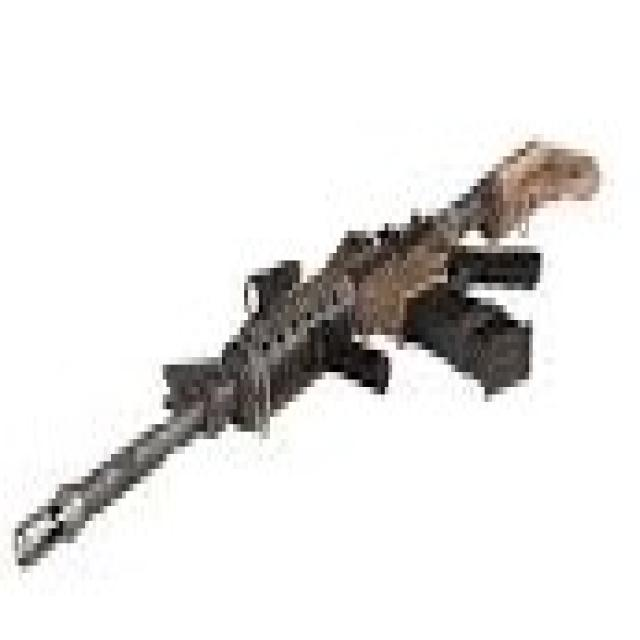rifle: (15, 101, 604, 583)
